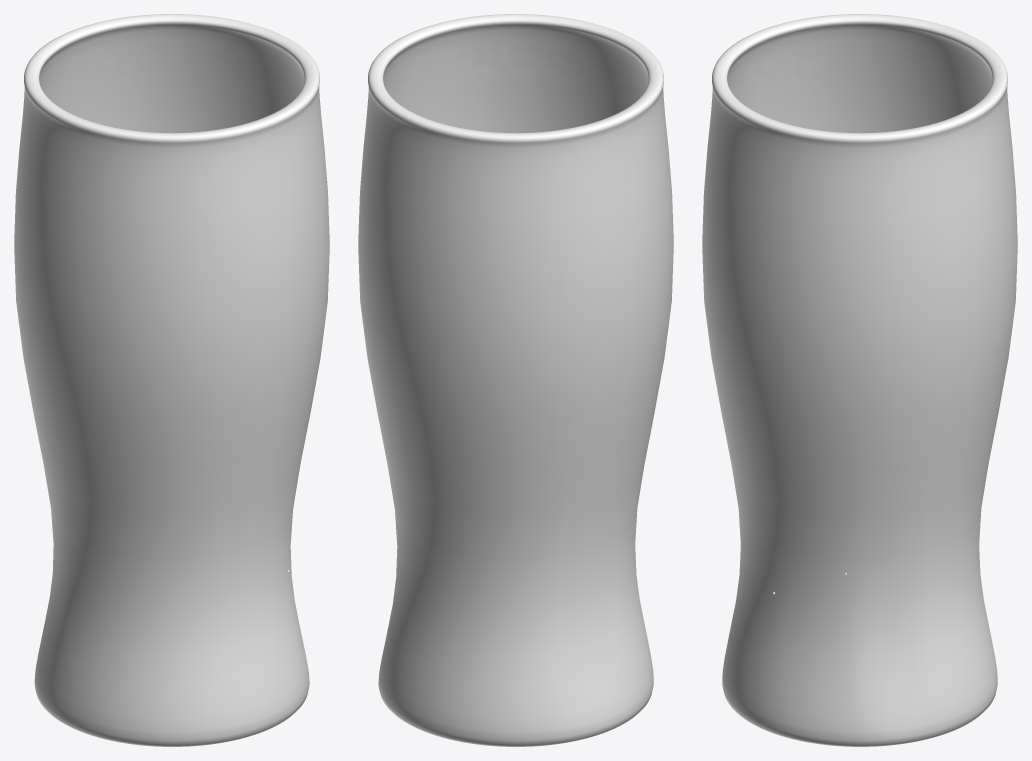
Rendered from beer_bottle.gltf.
3 views of the same model, side by side, from view 1: azimuth 30°, elevation 25°; view 2: azimuth 150°, elevation 25°; view 3: azimuth 270°, elevation 25° (orthographic).
Parts seen in each view (by area): view 1: Stakan, Pena_stakana; view 2: Stakan, Pena_stakana; view 3: Stakan, Pena_stakana.
Boxes of the visible parts, box(x1,y1,x2,y2) form: Stakan: box(14, 14, 329, 746); Pena_stakana: box(78, 56, 294, 118); Stakan: box(358, 14, 673, 746); Pena_stakana: box(391, 44, 645, 109); Stakan: box(702, 14, 1017, 746); Pena_stakana: box(728, 57, 947, 131).
Bounding box in the file's own units: 0.0464 × 0.0999 × 0.0464.
Materials: 5 (1 with a texture image).
